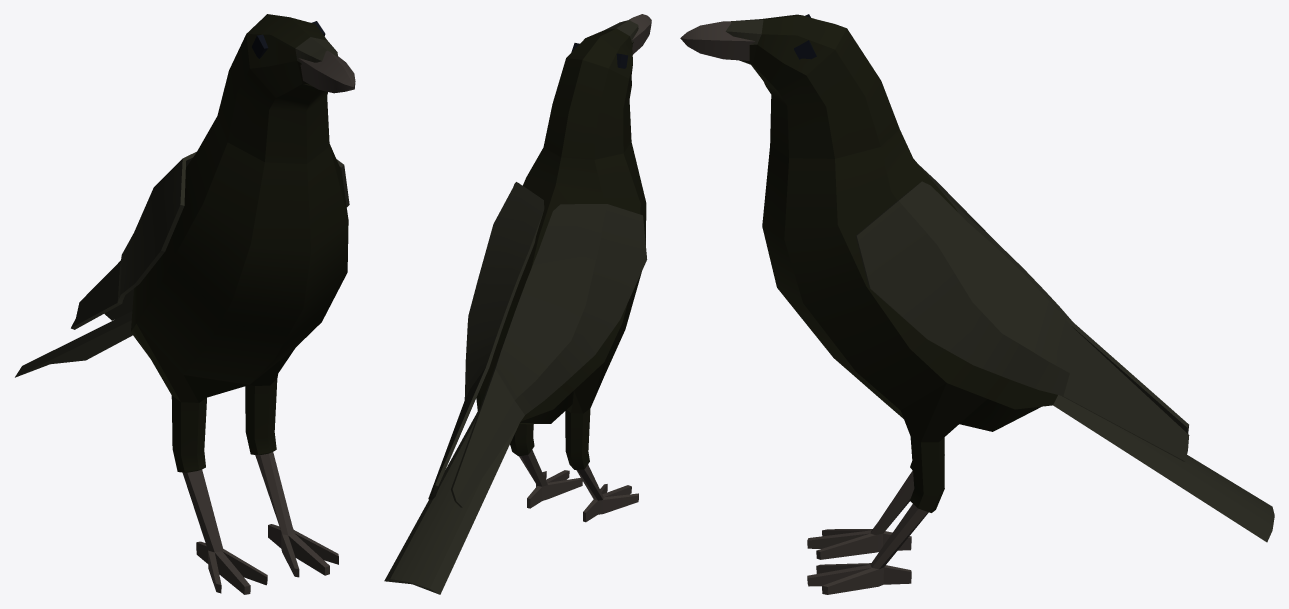
3 renders of one model, left to right at view 1: azimuth 30°, elevation 25°; view 2: azimuth 150°, elevation 25°; view 3: azimuth 270°, elevation 25°, orthographic. The views are drawn at different scales.
Parts seen in each view (by area): view 1: Geo_Crow; view 2: Geo_Crow; view 3: Geo_Crow.
Boxes of the visible parts, x1,y1,x2,y2 form: Geo_Crow: (15, 14, 355, 594); Geo_Crow: (384, 14, 651, 594); Geo_Crow: (680, 14, 1274, 594).
Size of the model in its own units: 17.36 by 50.08 by 48.97.
1 material, 1 textured.
